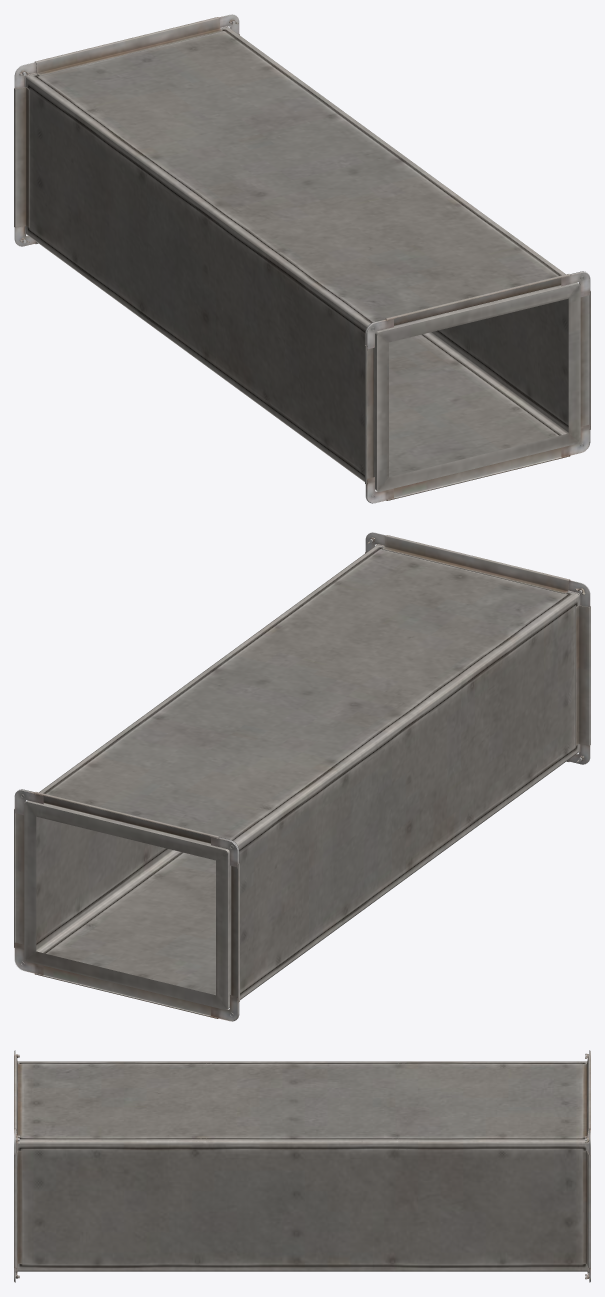
File: straight.glb
3 renders of one model, top to bottom at view 1: azimuth 30°, elevation 25°; view 2: azimuth 150°, elevation 25°; view 3: azimuth 270°, elevation 25°, orthographic. The views are drawn at different scales.
Visible parts, largest first — view 1: modular_airduct_rectangular_01_tripple_01; view 2: modular_airduct_rectangular_01_tripple_01; view 3: modular_airduct_rectangular_01_tripple_01.
Boxes of the visible parts, x1=… form: modular_airduct_rectangular_01_tripple_01: x1=14, y1=14, x2=590, y2=503; modular_airduct_rectangular_01_tripple_01: x1=14, y1=532, x2=590, y2=1021; modular_airduct_rectangular_01_tripple_01: x1=14, y1=1050, x2=590, y2=1282.
Size of the model in its own units: 0.6634 by 0.5126 by 1.8.
Materials: 2 (2 with a texture image).
